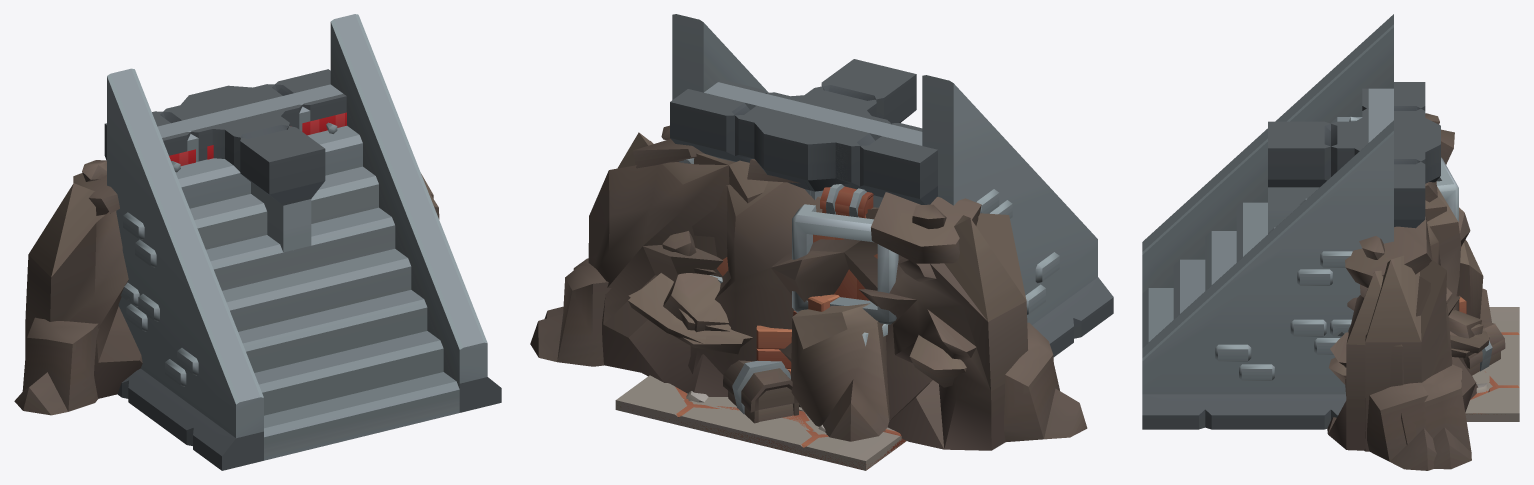
Rendered from k_dungeon.glb.
3 views of the same model, side by side, from view 1: azimuth 30°, elevation 25°; view 2: azimuth 150°, elevation 25°; view 3: azimuth 270°, elevation 25° (orthographic). The views are drawn at different scales.
Parts seen in each view (by area): view 1: stairs, rubble_large, wall_corner, wall_arched, banner_triple_red, wall_pillar, pillar_decorated; view 2: rubble_large, rubble_half, stairs, box_stacked, floor_tile_large_rocks, wall_arched, wall_pillar, wall_corner, wall, wall_half, pillar, floor_tile_large (+2 smaller); view 3: stairs, rubble_half, rubble_large, wall_corner, wall_arched, floor_tile_large_rocks, wall, box_stacked, wall_pillar, floor_dirt_large.
Boxes of the visible parts, x1,y1,x2,y2 form: stairs: (107,14,501,470); rubble_large: (14,160,439,415); wall_corner: (187,114,325,252); wall_arched: (104,69,346,161); banner_triple_red: (169,112,346,172); wall_pillar: (181,85,285,158); pillar_decorated: (190,86,277,129); rubble_large: (544,141,1087,450); rubble_half: (530,125,767,396); stairs: (672,14,1113,357); box_stacked: (710,184,898,423); floor_tile_large_rocks: (616,375,899,470); wall_arched: (670,79,937,204); wall_pillar: (726,93,920,201); wall_corner: (801,59,924,207); wall: (726,93,932,204); wall_half: (670,102,754,162); pillar: (757,95,863,183); floor_tile_large: (615,400,906,470); stairs: (1142,14,1393,429); rubble_half: (1345,197,1489,469); rubble_large: (1327,113,1491,470); wall_corner: (1268,106,1415,232); wall_arched: (1362,82,1425,227); floor_tile_large_rocks: (1465,307,1519,414); wall: (1362,127,1425,228); box_stacked: (1436,157,1505,375); wall_pillar: (1346,118,1440,183); floor_dirt_large: (1465,383,1519,421).
Bounding box in the file's own units: 8.13 × 5.91 × 6.
1 material, 1 textured.
